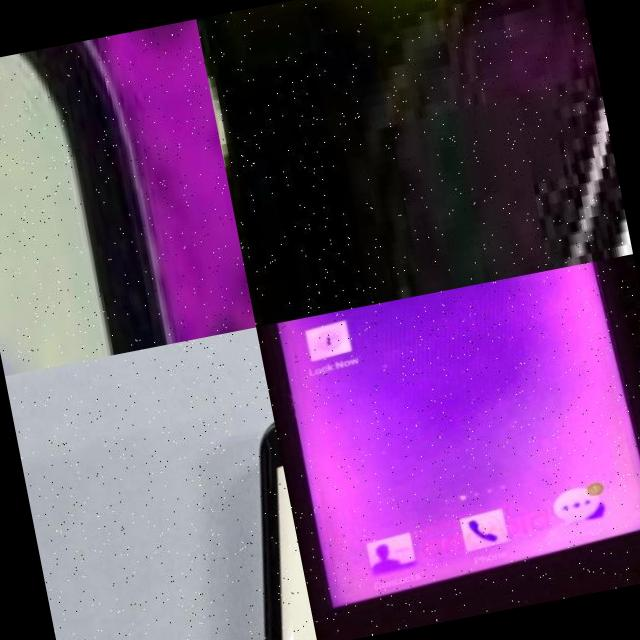dead pixel: (200, 398, 288, 508)
